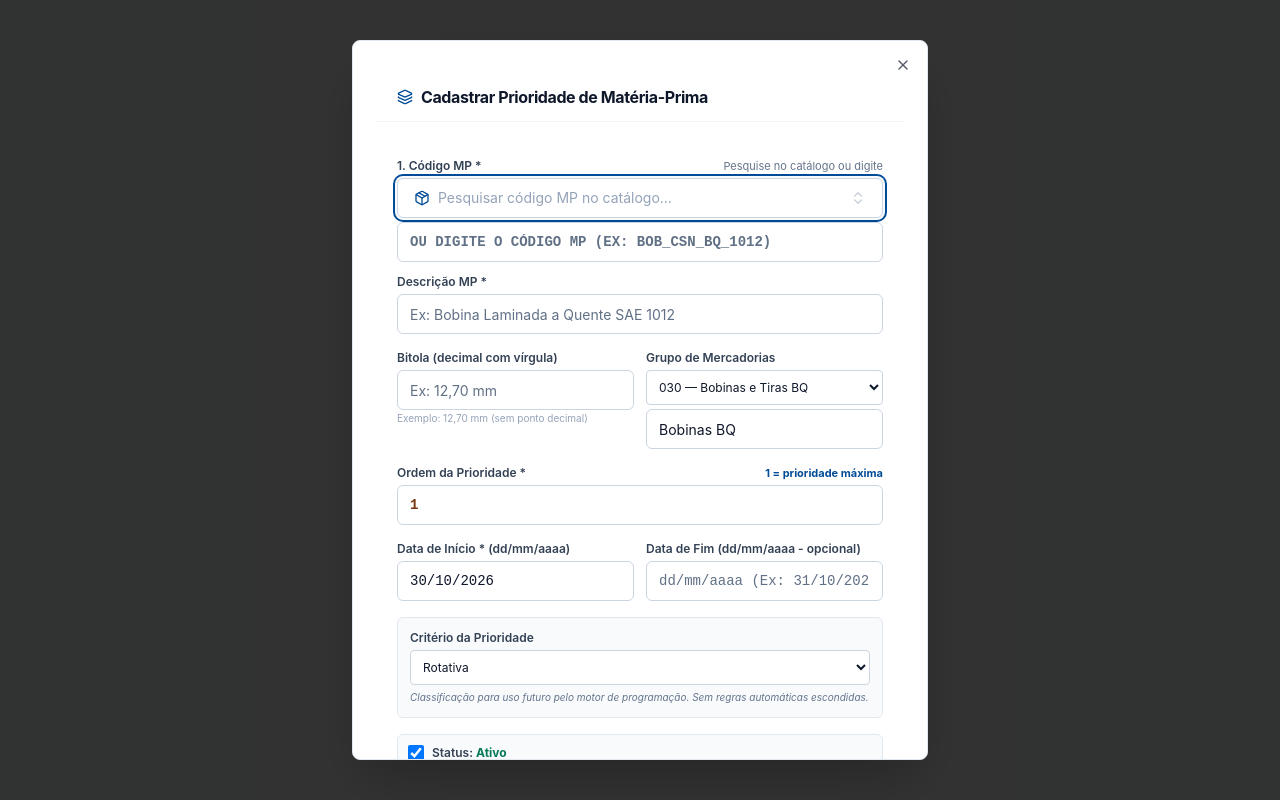
Test: Prioridades de Matéria-Prima — 13 Critérios de Aceite › T4: Cancelar com dados alterados exibe confirmação "Descartar alterações?" e botões Continuar editando e Descartar alterções
Type "BOB_ALTERADA" into the field with test id "input-raw-material-code" at (640, 242), box [397,222,883,262]
(page scrolled)
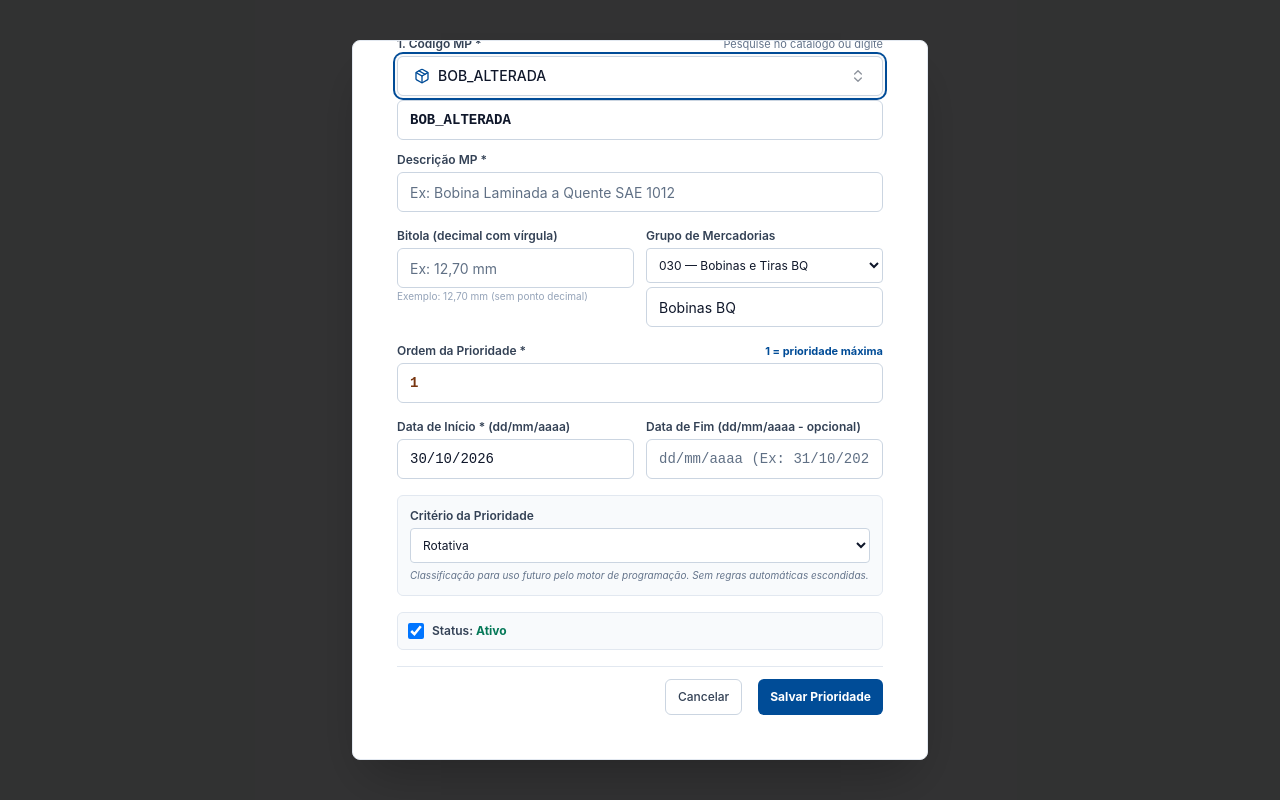
Click the button with test id "modal-cancel-btn" at (704, 697), box [665,679,742,715]
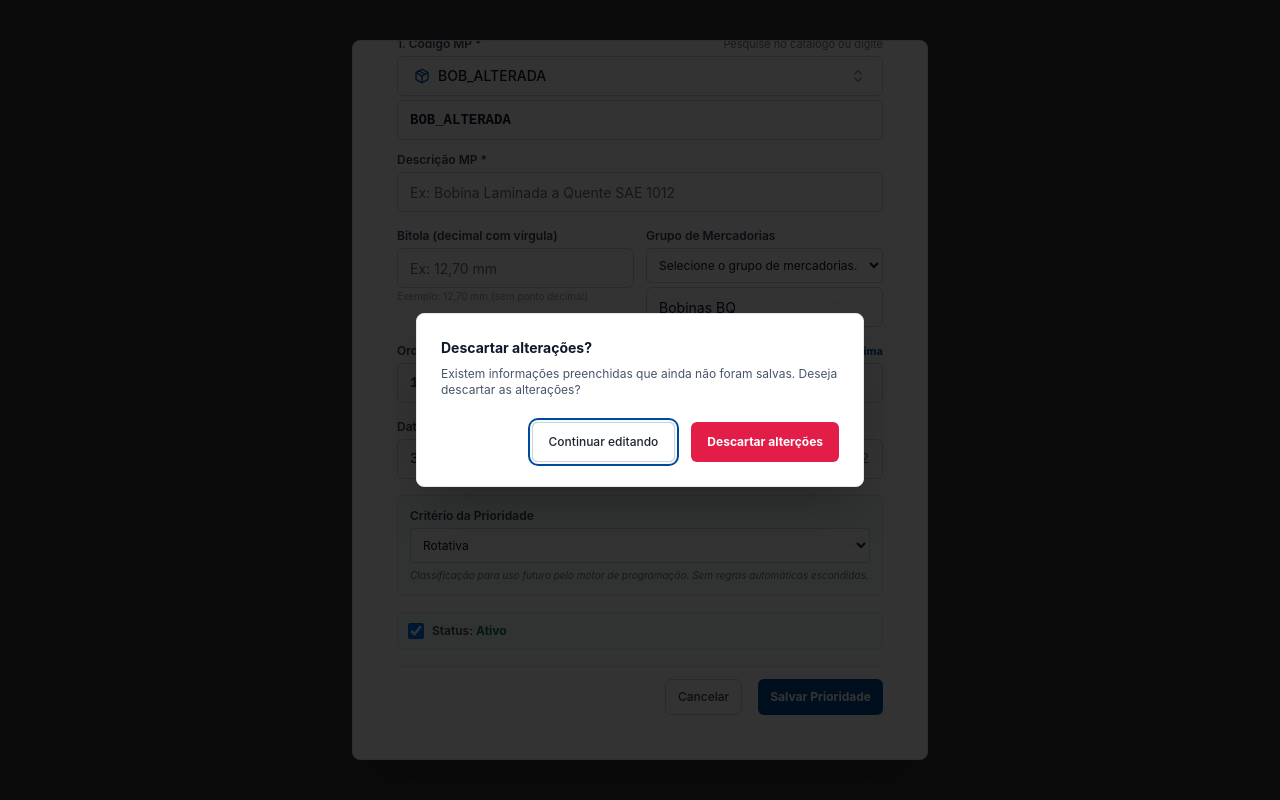
Result: the heading "Descartar alterações?" is shown at [441,339,592,356]
Result: the text "Existem informações preenchidas que ainda não foram salvas. Deseja descartar as alterações?" is shown at [441,366,837,397]
Result: the button "Continuar editando" is shown at [532,422,675,462]
